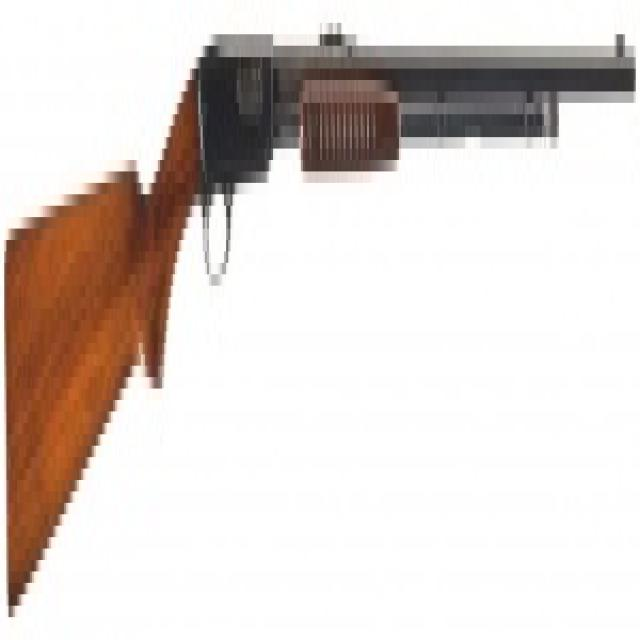rifle: (1, 1, 640, 630)
